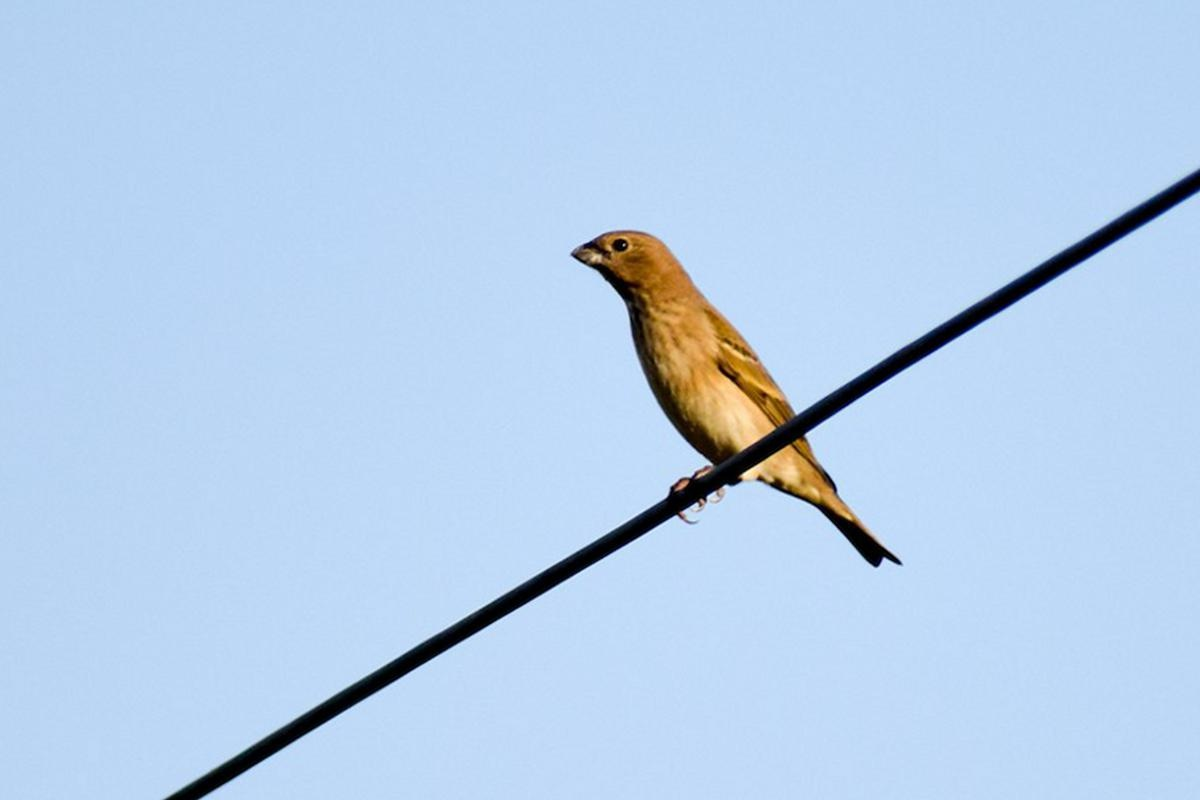rosefinch: (557, 218, 921, 578)
